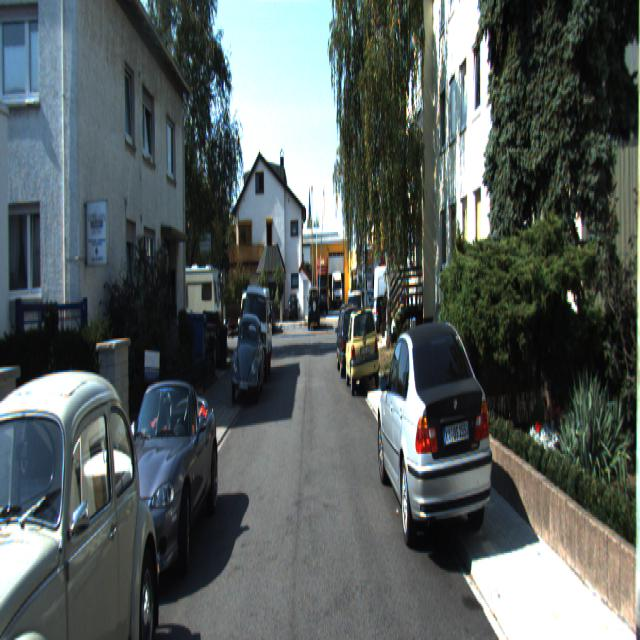Car: (0, 352, 170, 638), (86, 368, 222, 602), (377, 314, 502, 565), (428, 292, 535, 401), (154, 262, 232, 358), (229, 309, 267, 398), (373, 261, 424, 326), (242, 277, 274, 377), (344, 306, 379, 394), (630, 331, 640, 638), (335, 305, 366, 378), (306, 282, 320, 327)
